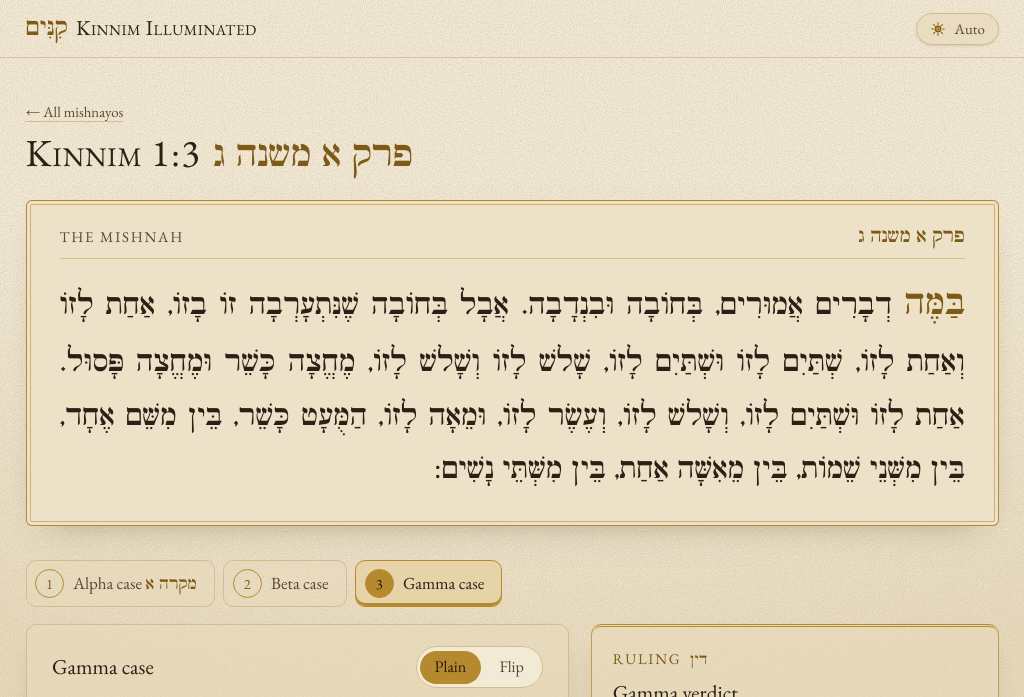
Test case: variants › the variant switch changes the setup and the URL, resets to the start and does not auto-advance
The image size is (1024, 697).
Expected: the heading "Gamma case" is shown, [52,652,154,682]
Click the radio button labelled "Flip" at (512, 667), box [499,656,524,677]
Wait 3600 ms
(page scrolled)
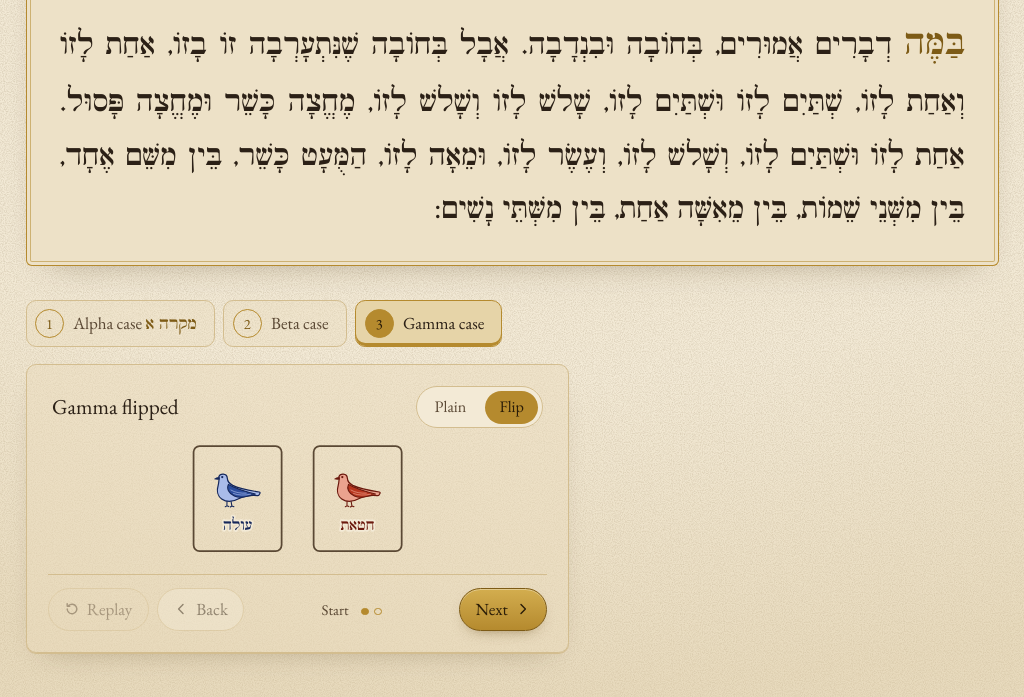
Result: the radio button labelled "Flip" is checked at [485,391,538,424]
Result: the heading "Gamma flipped" is shown at [52,392,179,422]
Result: the text "Start" is shown at [322,600,349,619]
